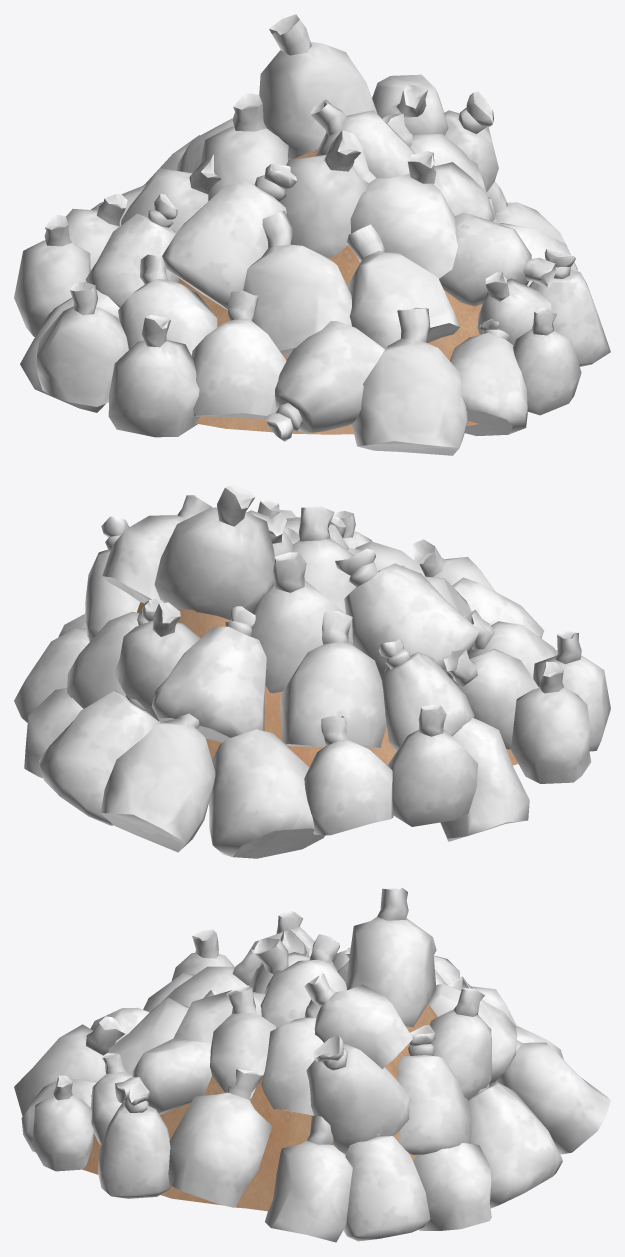
File: Prfb_GargabePile_Temp.fbx
3 views of the same model, one above another, from view 1: azimuth 30°, elevation 25°; view 2: azimuth 150°, elevation 25°; view 3: azimuth 270°, elevation 25° (orthographic). The views are drawn at different scales.
Visible parts, largest first — view 1: Mat_Bags_01_4, Mat_Bags_01_1, Mat_Bags_01_5, Mat_Tile_DryMud_01; view 2: Mat_Bags_01_4, Mat_Bags_01_1, Mat_Bags_01_5, Mat_Tile_DryMud_01; view 3: Mat_Bags_01_4, Mat_Bags_01_1, Mat_Bags_01_5, Mat_Tile_DryMud_01.
Part boxes in pixels (left/top/right/bottom): Mat_Bags_01_4: left=14, top=14, right=610, bottom=455; Mat_Bags_01_1: left=85, top=74, right=527, bottom=441; Mat_Bags_01_5: left=20, top=113, right=576, bottom=418; Mat_Tile_DryMud_01: left=178, top=149, right=482, bottom=434; Mat_Bags_01_4: left=14, top=484, right=610, bottom=835; Mat_Bags_01_1: left=24, top=495, right=557, bottom=858; Mat_Bags_01_5: left=101, top=498, right=556, bottom=852; Mat_Tile_DryMud_01: left=137, top=602, right=518, bottom=766; Mat_Bags_01_4: left=14, top=887, right=517, bottom=1242; Mat_Bags_01_1: left=21, top=926, right=563, bottom=1230; Mat_Bags_01_5: left=90, top=973, right=610, bottom=1208; Mat_Tile_DryMud_01: left=82, top=1003, right=437, bottom=1211.
Size of the model in its own units: 5.15 by 2.94 by 5.45.
4 materials, 4 textured.
